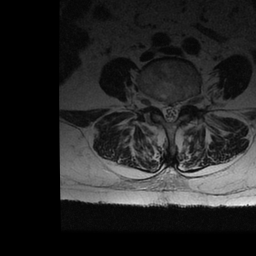CCS_normal: (166, 99, 174, 127)
LFS_stenosis: (182, 94, 188, 116)
LLS_normal: (174, 98, 181, 121)
RFS_normal: (153, 94, 161, 116)
RLS_normal: (161, 96, 167, 122)
